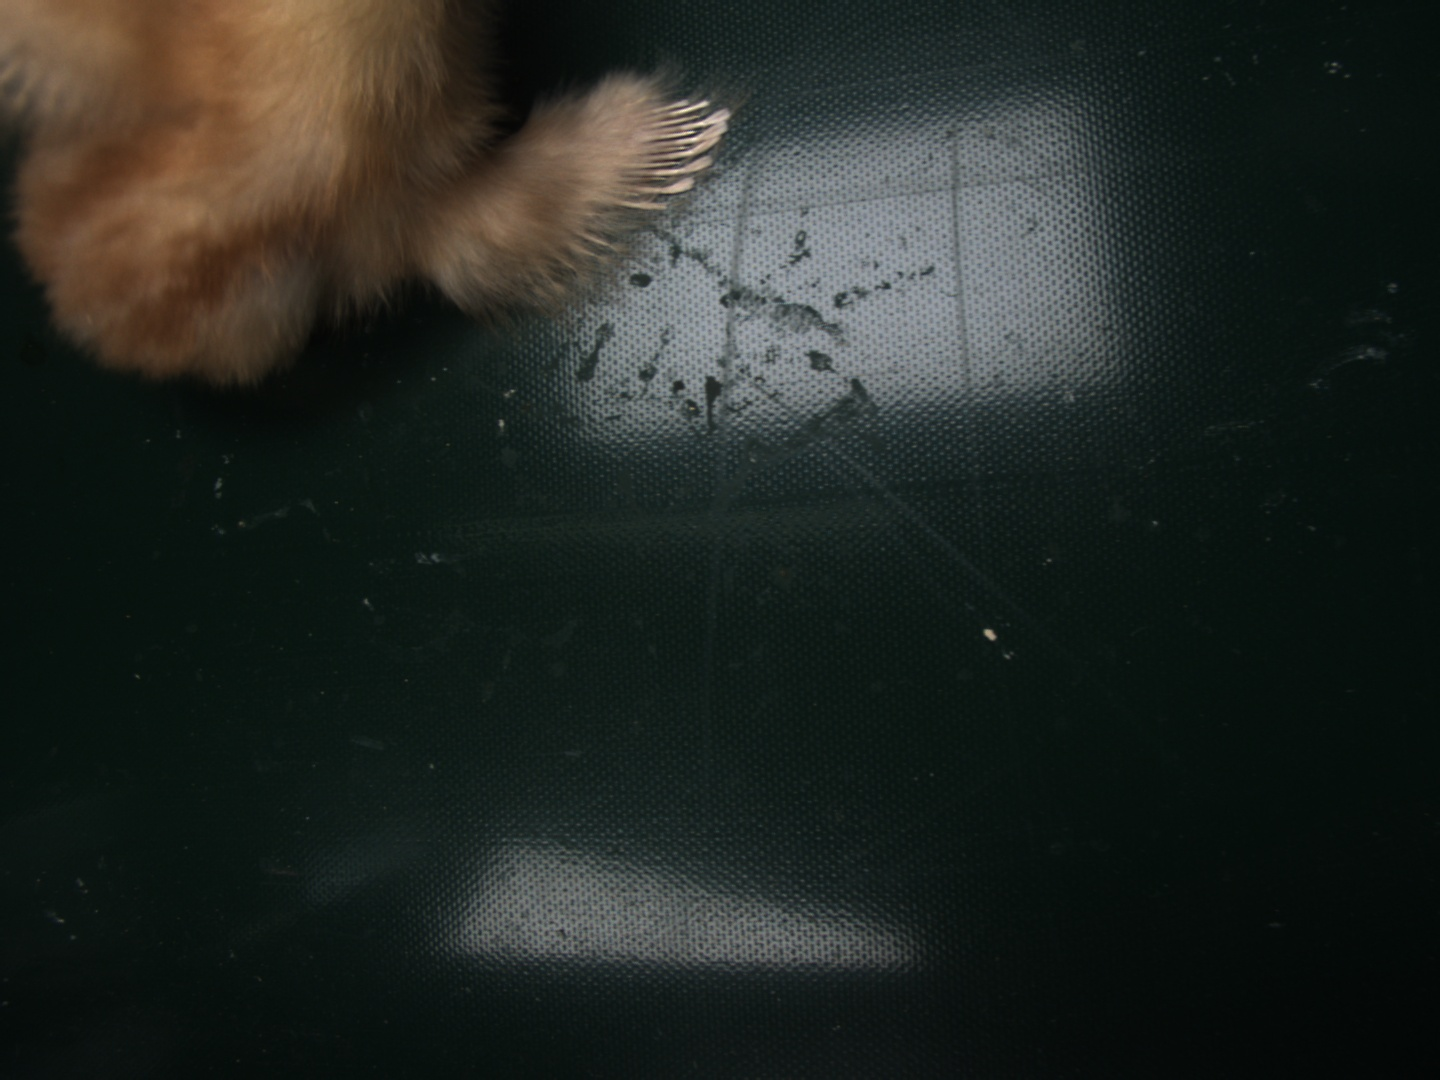female: (615, 101, 726, 213)
